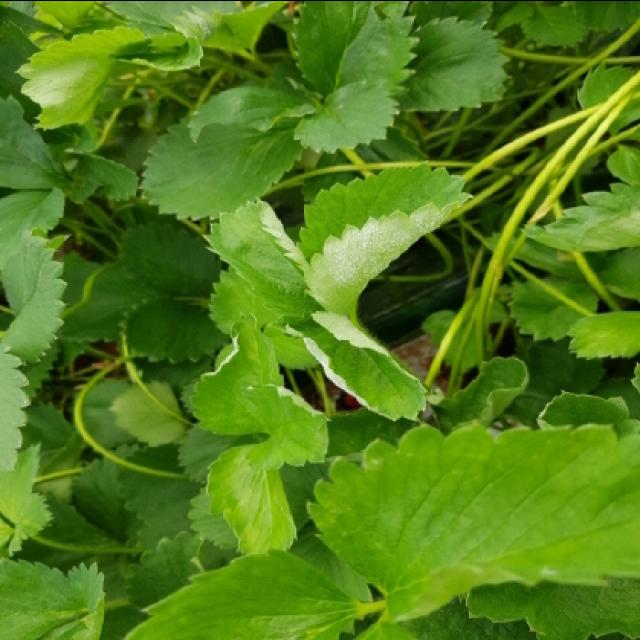Powdery Mildew Leaf: (294, 161, 475, 324), (202, 196, 320, 332), (302, 309, 427, 421), (188, 311, 265, 436), (243, 381, 330, 473)
